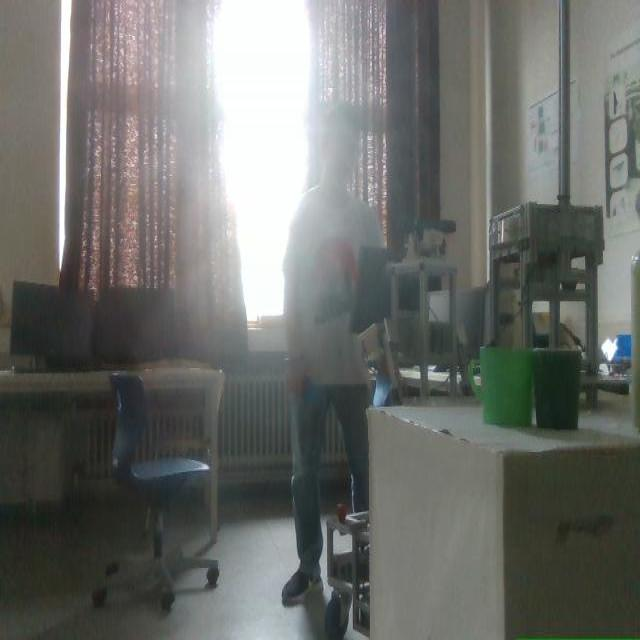objects: (110, 374, 218, 610), (10, 282, 181, 370), (351, 247, 421, 405), (350, 247, 401, 406), (10, 282, 93, 370), (93, 287, 179, 367), (350, 247, 390, 333)
